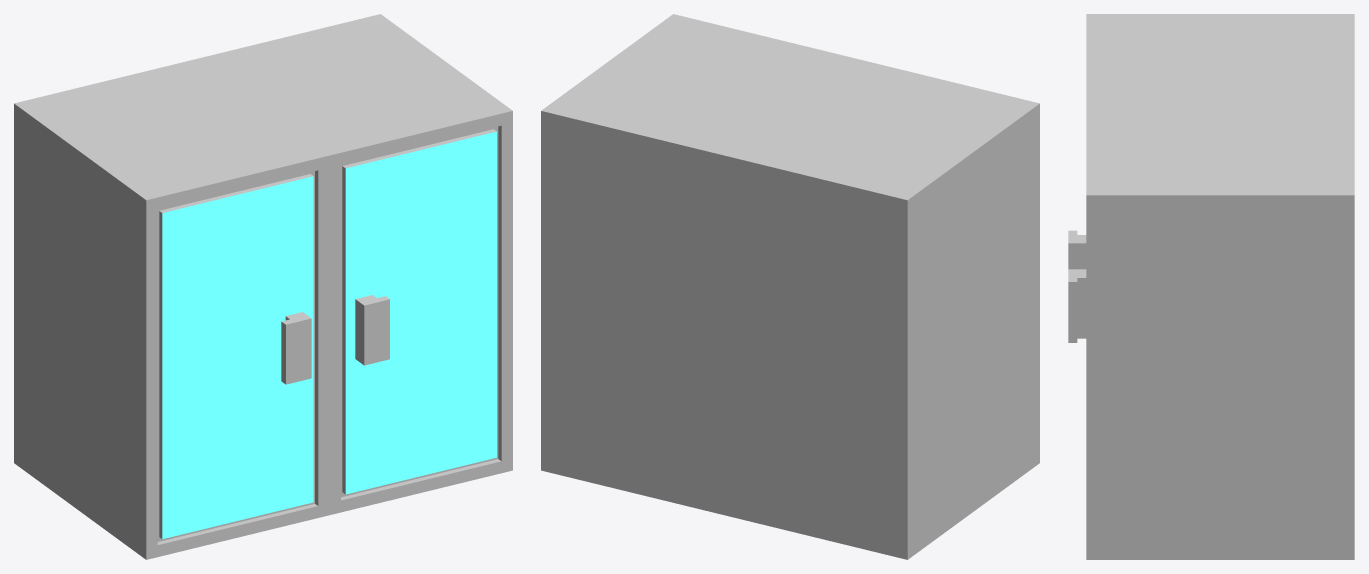
3 views of the same model, side by side, from view 1: azimuth 30°, elevation 25°; view 2: azimuth 150°, elevation 25°; view 3: azimuth 270°, elevation 25° (orthographic).
Visible parts, largest first — view 1: Plane.028; view 2: Plane.028; view 3: Plane.028.
Boxes of the visible parts, <box> form: Plane.028: <box>14,14,512,559</box>; Plane.028: <box>541,14,1039,559</box>; Plane.028: <box>1068,14,1354,559</box>.
Bounding box in the file's own units: 2.56 × 1.71 × 2.4.
